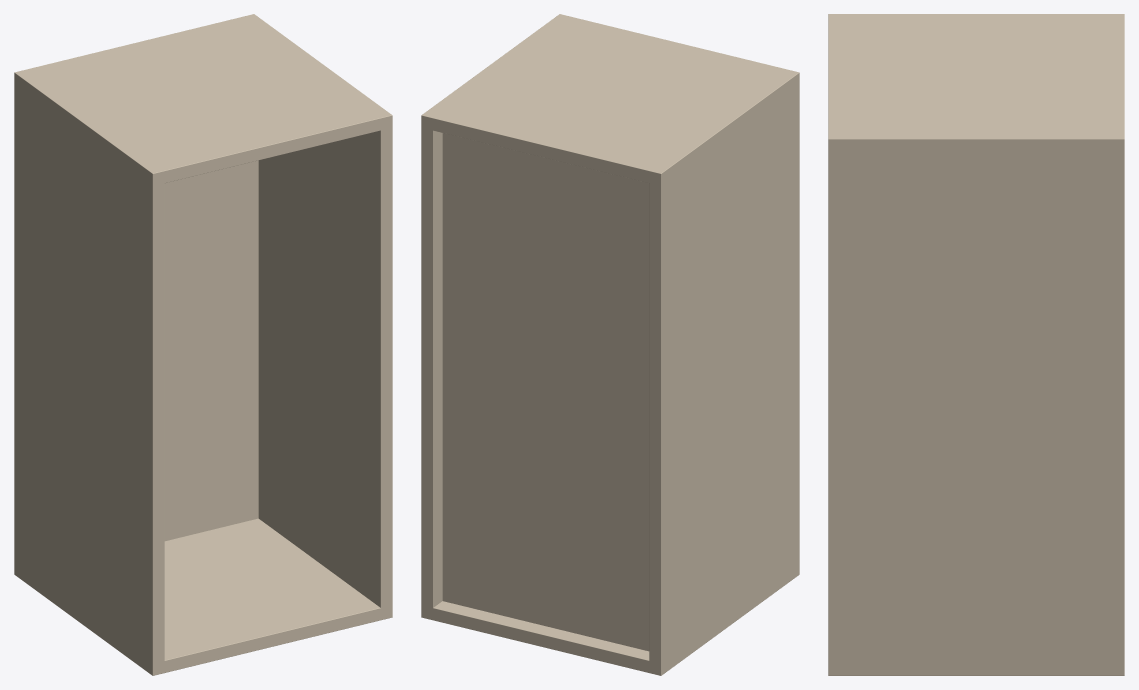
Rendered from MOD-1X2-A-B-AR.glb.
3 views of the same model, side by side, from view 1: azimuth 30°, elevation 25°; view 2: azimuth 150°, elevation 25°; view 3: azimuth 270°, elevation 25° (orthographic). The views are drawn at different scales.
Size of the model in its own units: 360 by 720 by 360.
